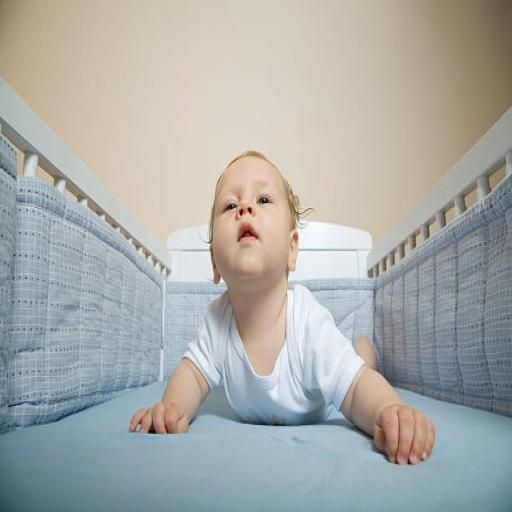baby: (130, 152, 435, 464)
crib: (0, 81, 511, 510)
